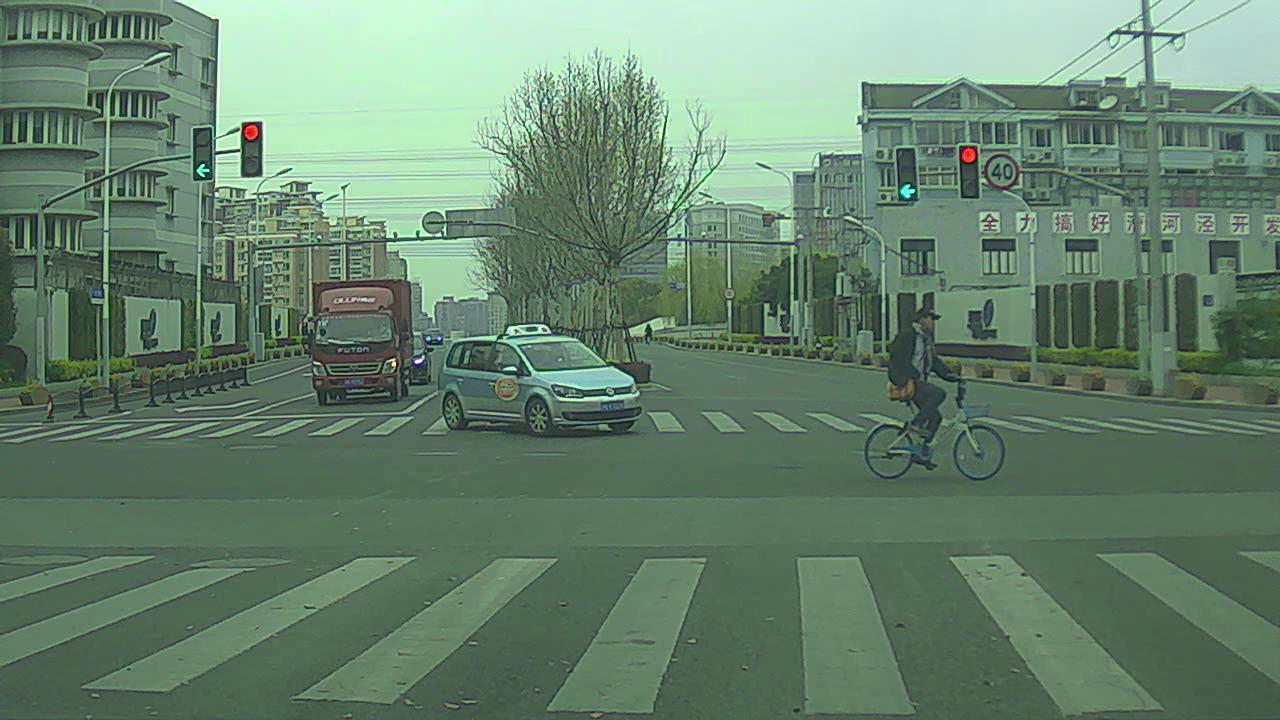traffic_light: (236, 120, 267, 181), (895, 144, 922, 202), (957, 139, 981, 197), (188, 127, 212, 178)
